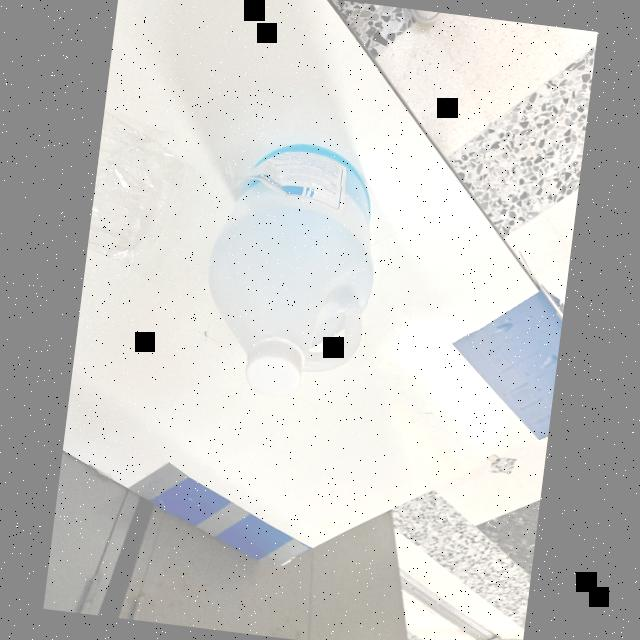chemical_plastic_gallon: (187, 123, 392, 405)
